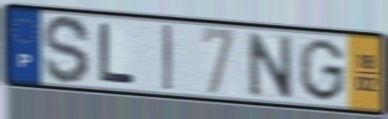7: (199, 24, 239, 98)
G: (296, 37, 347, 104)
I: (161, 22, 174, 93)
L: (97, 21, 139, 86)
N: (245, 29, 296, 101)
S: (42, 13, 93, 86)
